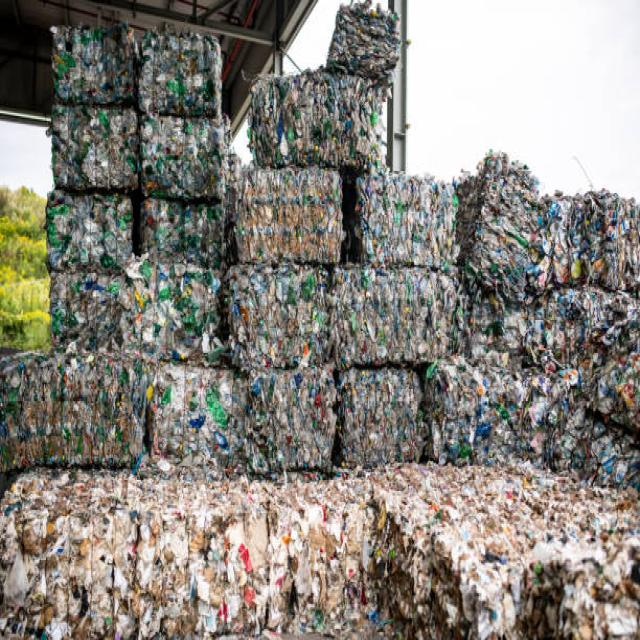plastic: (80, 188, 556, 477)
